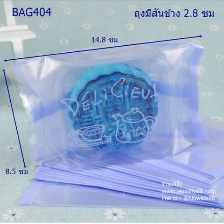snack: (0, 32, 214, 171)
